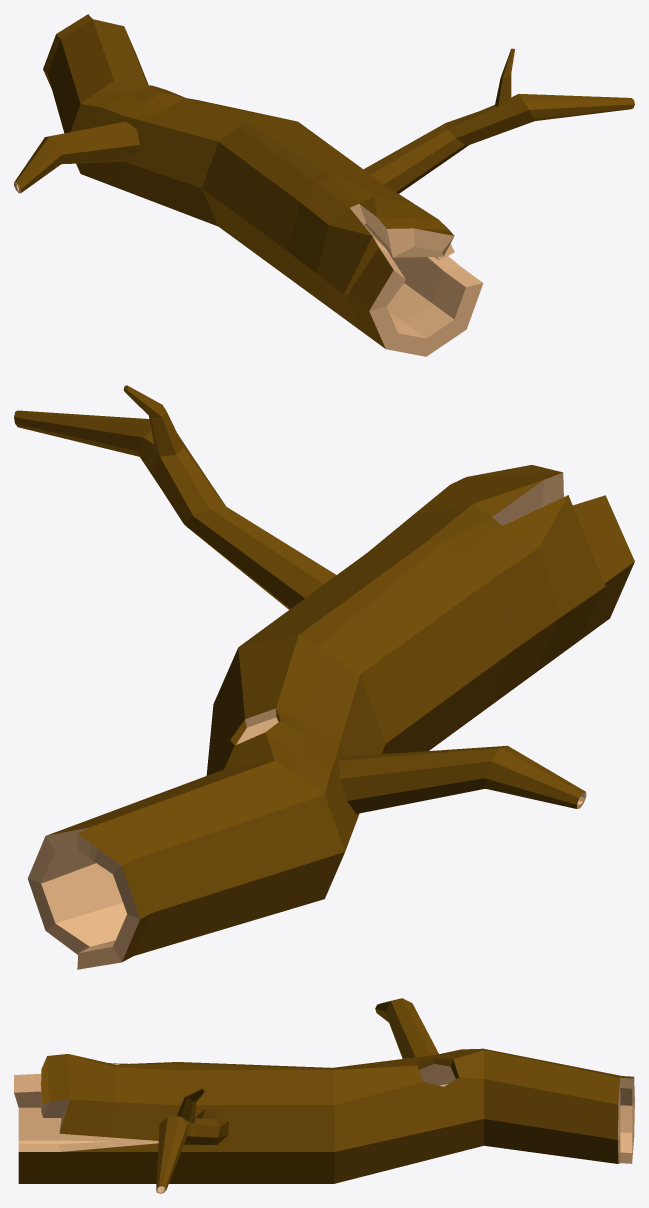
Rendered from Trunk.fbx.
3 renders of one model, top to bottom at view 1: azimuth 30°, elevation 25°; view 2: azimuth 150°, elevation 25°; view 3: azimuth 270°, elevation 25°, orthographic. The views are drawn at different scales.
Visible parts, largest first — view 1: Circle; view 2: Circle; view 3: Circle.
Boxes of the visible parts, x1,y1,x2,y2 form: Circle: [14, 14, 634, 356]; Circle: [14, 385, 634, 969]; Circle: [14, 998, 634, 1193].
Bounding box in the file's own units: 395 × 144 × 454.
